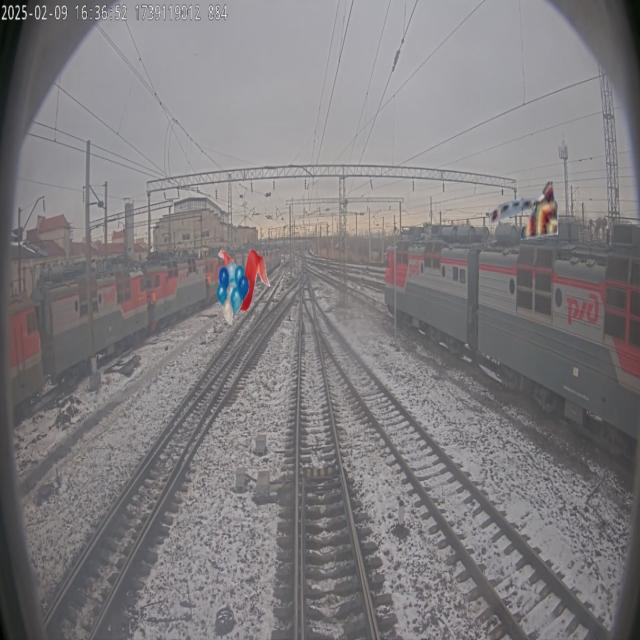balloon: (217, 260, 249, 324)
floating object: (490, 177, 563, 240), (218, 248, 271, 312)
